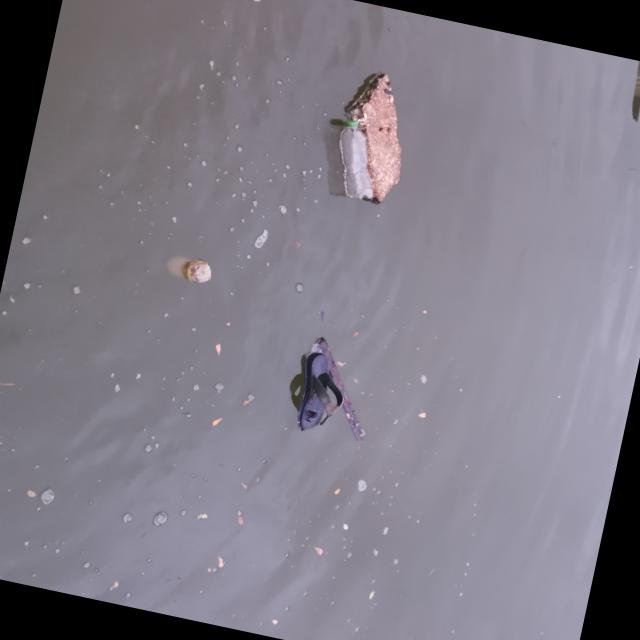foam: (324, 66, 418, 206)
plastic: (324, 117, 386, 205)
unknow: (294, 330, 394, 450), (284, 344, 345, 442), (160, 251, 210, 290)
